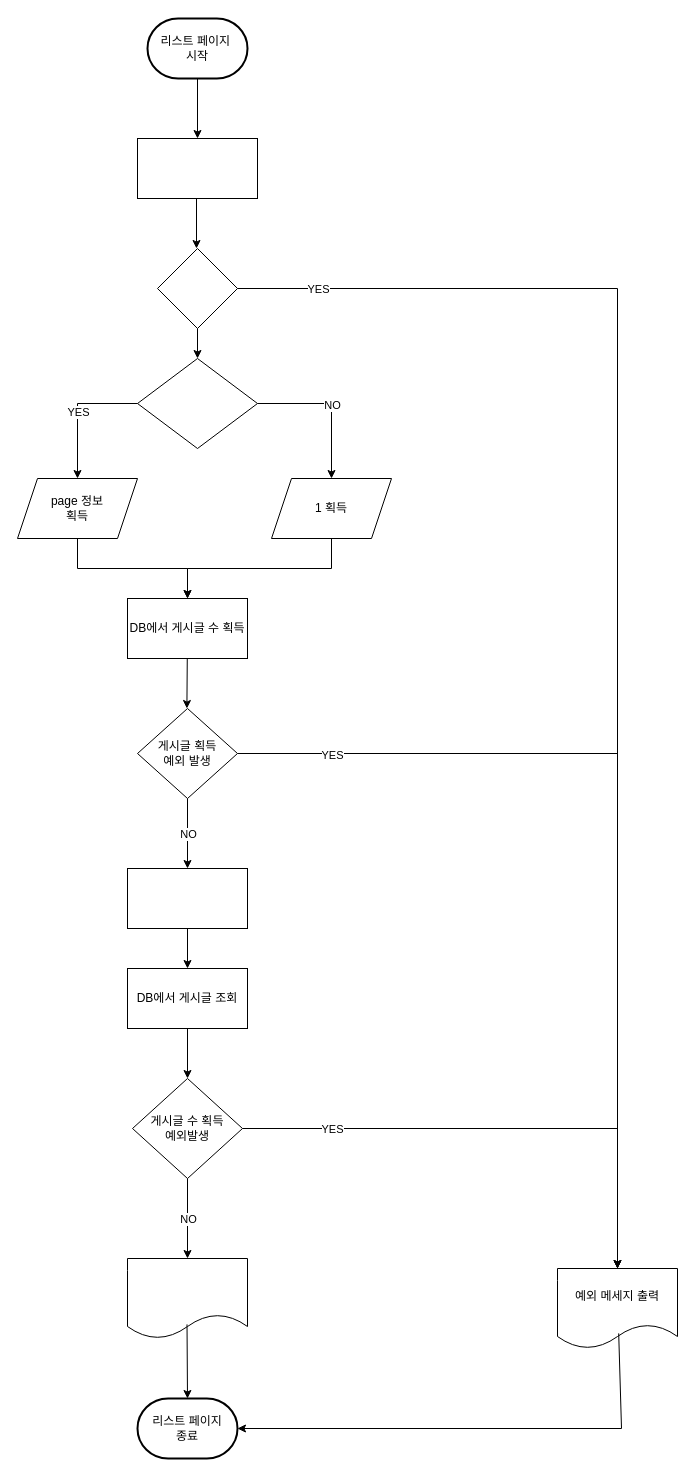
Image size: 695x1476. Some labels were removed from this diagram. The shapes that lost their labels are listed below. From the top down, each one's centre as x and y in pixels, then its label:
At pixel 197 168: "DB 접속".
At pixel 197 288: "DB 접속 예외 발생".
At pixel 197 403: "page 파라미터 존재".
At pixel 187 898: "페이지 관련 설정 셋팅".
At pixel 187 1298: "화면에 출력".
